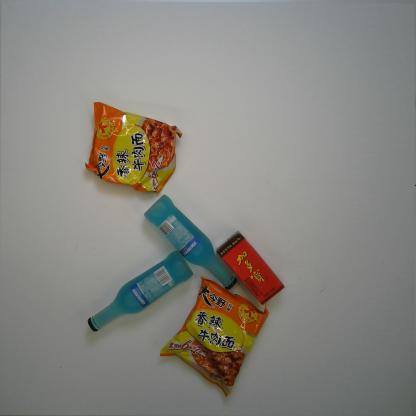Alcohol: (144, 195, 238, 291), (87, 250, 193, 333)
Drink: (214, 230, 286, 306)
Instant Noodles: (158, 276, 270, 398), (88, 102, 184, 194)
